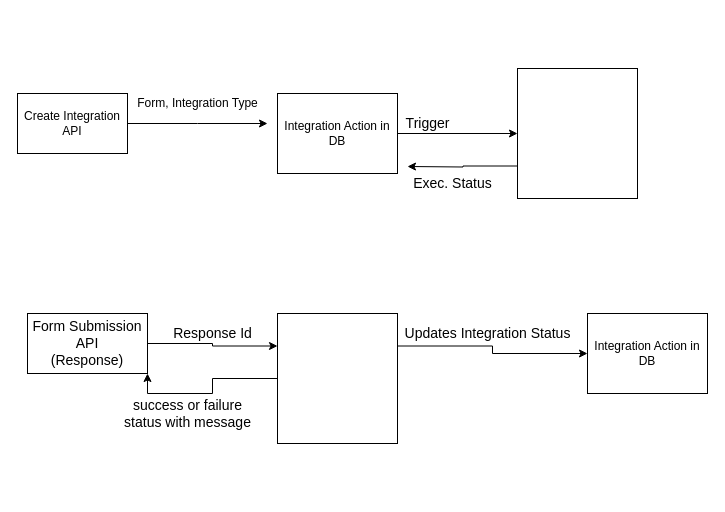
Some shapes in this 725 by 512 pixel diagram are drawn without their labels. The box of each missing label's shape, as (x1, y1, x2, y2) in pixels:
Integration Engine Executes Inital Step of the provided integration: (516, 68, 638, 198)
Integration Engine Executes the main Step of the provided integration: (276, 312, 398, 444)
